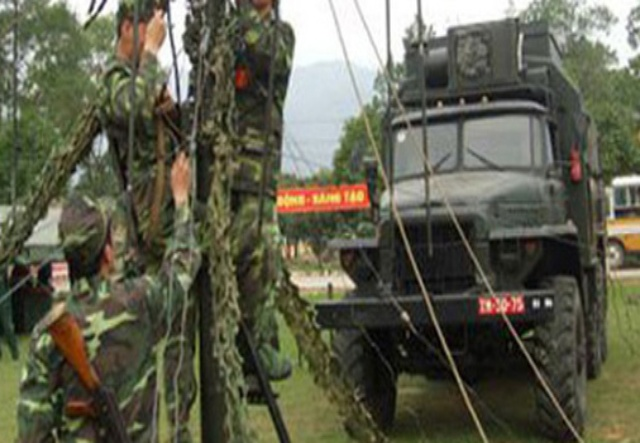plate: (475, 296, 528, 314)
